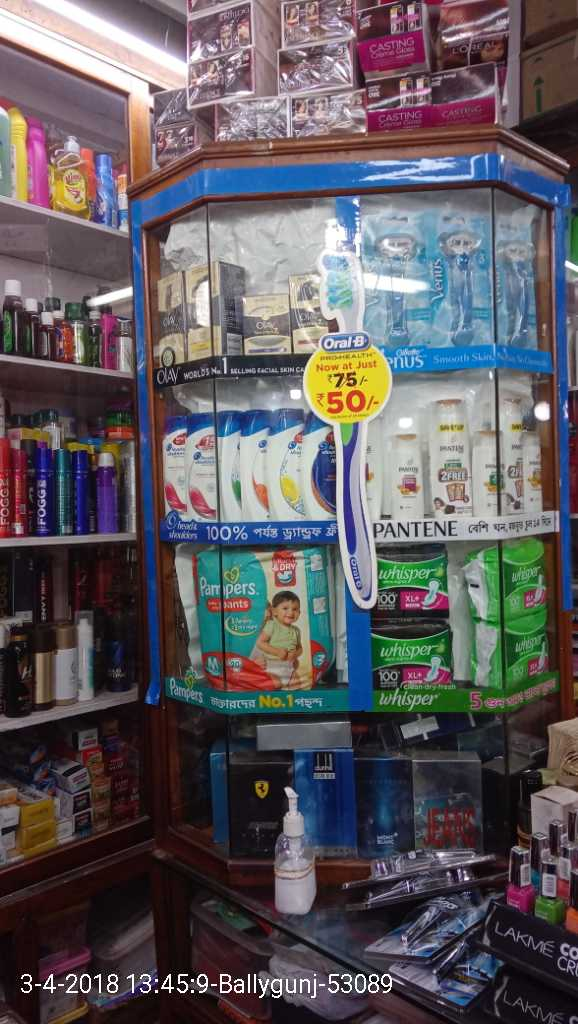venus: (426, 212, 489, 343), (365, 210, 424, 343), (497, 221, 535, 344)
